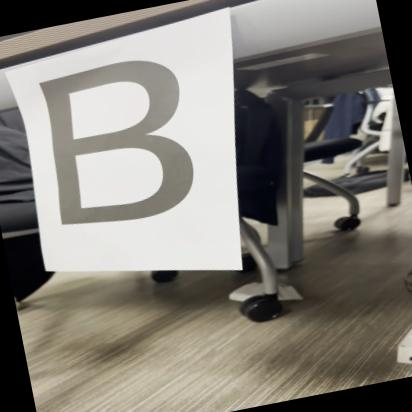seat: (21, 41, 223, 248)
